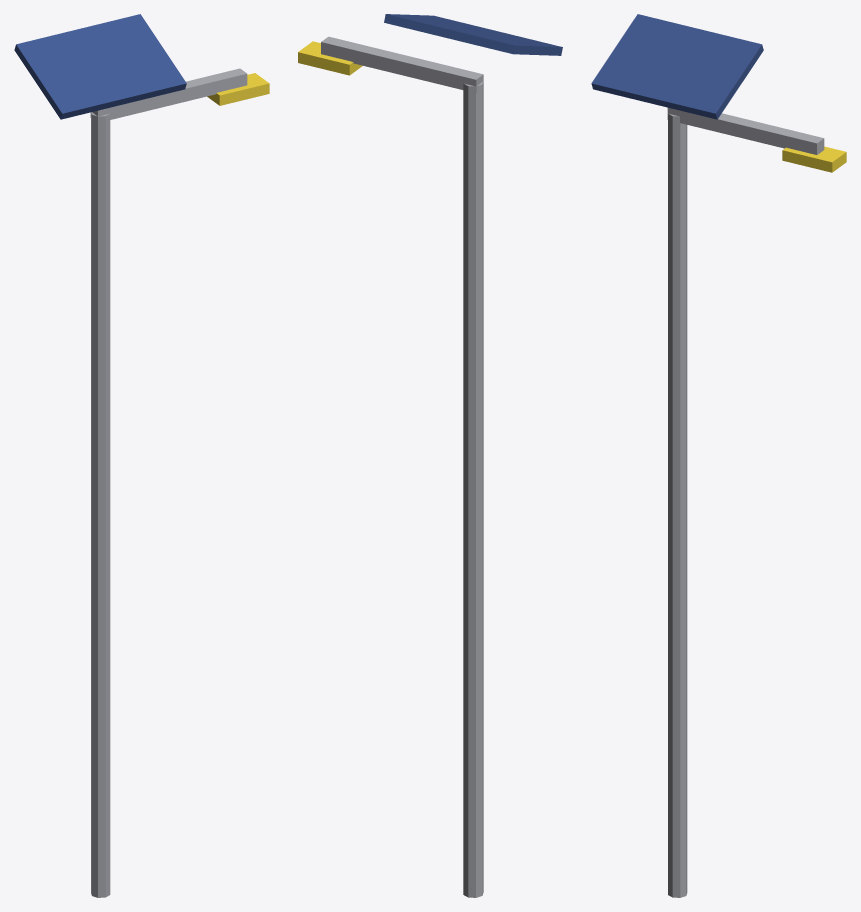
The model's file is EN_SolarLamp.glb.
3 renders of one model, left to right at view 1: azimuth 30°, elevation 25°; view 2: azimuth 150°, elevation 25°; view 3: azimuth 330°, elevation 25°, orthographic. The views are drawn at different scales.
Parts seen in each view (by area): view 1: EN_SolarLamp; view 2: EN_SolarLamp; view 3: EN_SolarLamp.
Boxes of the visible parts, box(x1,y1,x2,y2) form: EN_SolarLamp: box(14, 14, 269, 897); EN_SolarLamp: box(298, 14, 562, 897); EN_SolarLamp: box(591, 14, 846, 897).
Size of the model in its own units: 1.8 by 6.51 by 0.6681.
